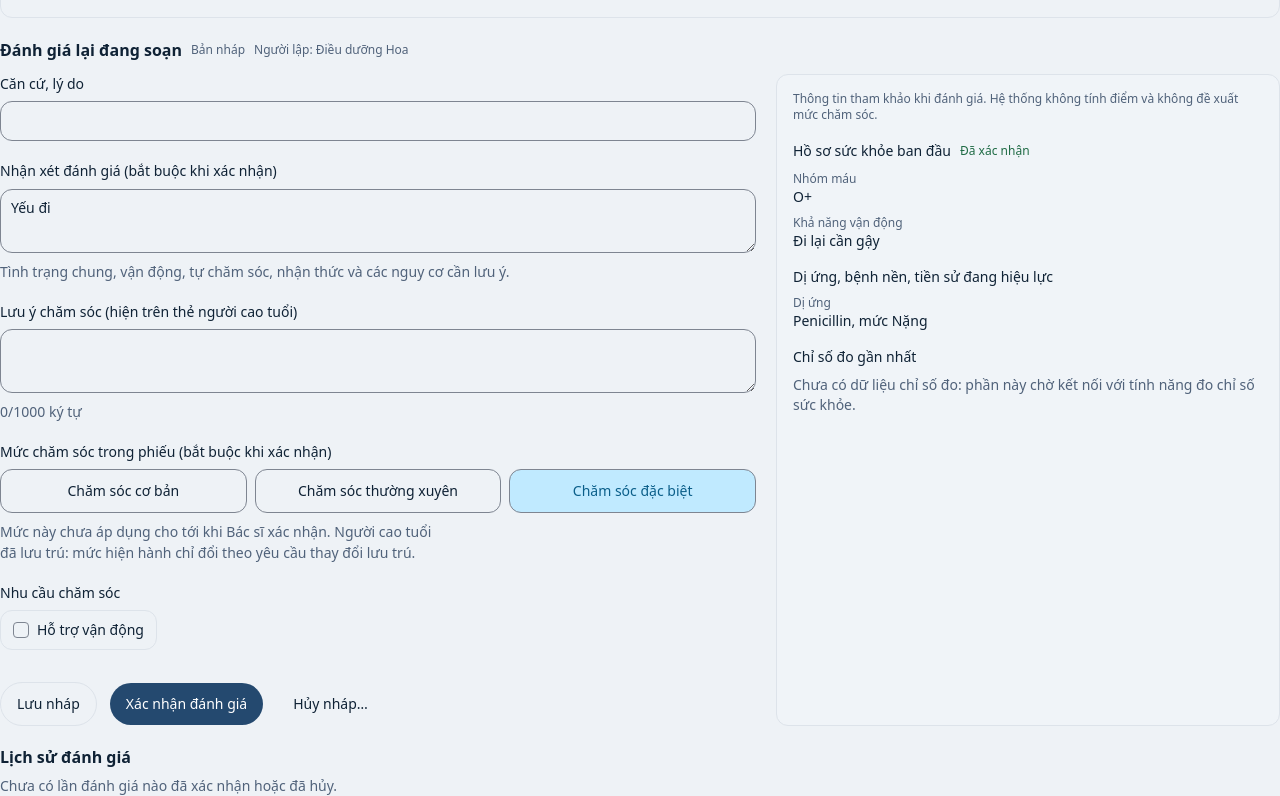
Test: AssessmentTab › đánh giá lại khi đã lưu trú với mức khác: hộp xác nhận nói mức hiện hành giữ nguyên và báo Hành chính
This screenshot has width=1280, height=796.
(page scrolled)
What coordinates should you click on to do the following:
click the button "Xác nhận đánh giá"
I would click on:
 (186, 704)
Its box is [109,682,264,726].
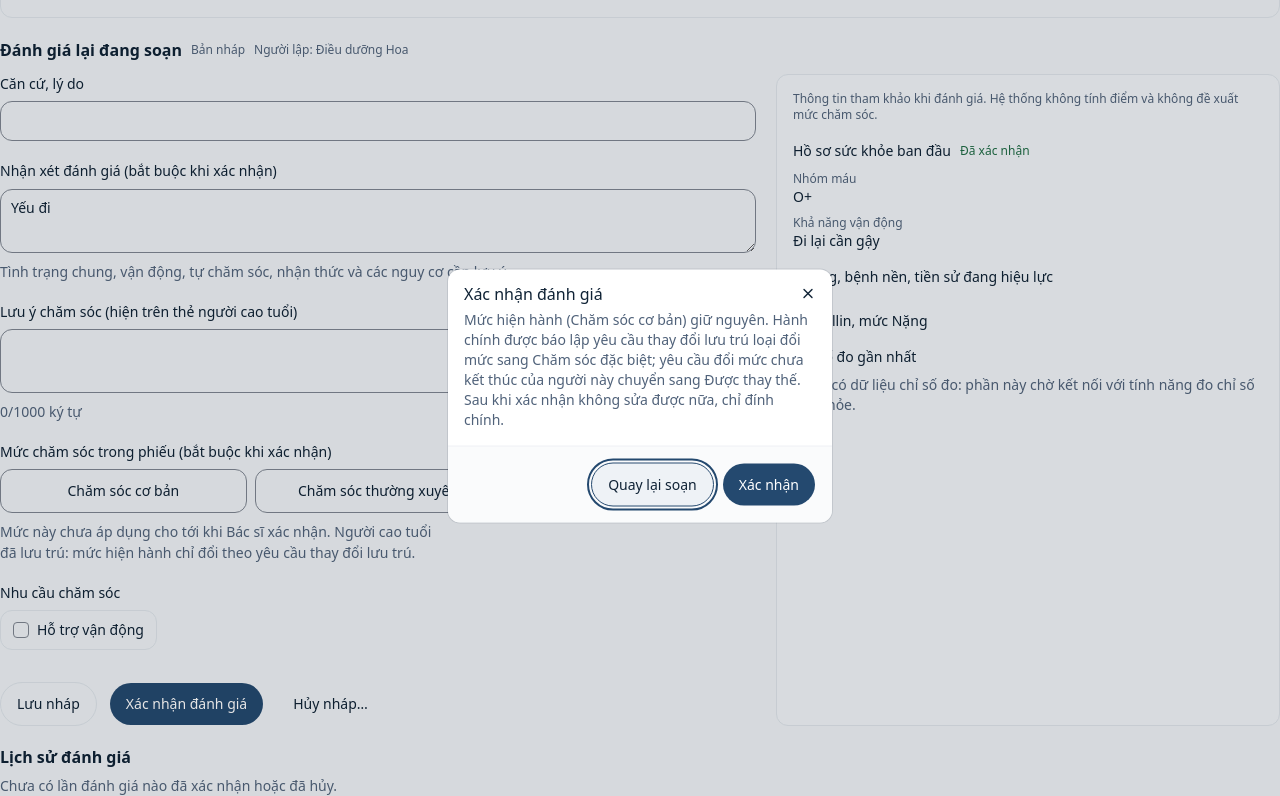
Result: the text "Hành chính được báo" is shown at [464,310,808,388]
